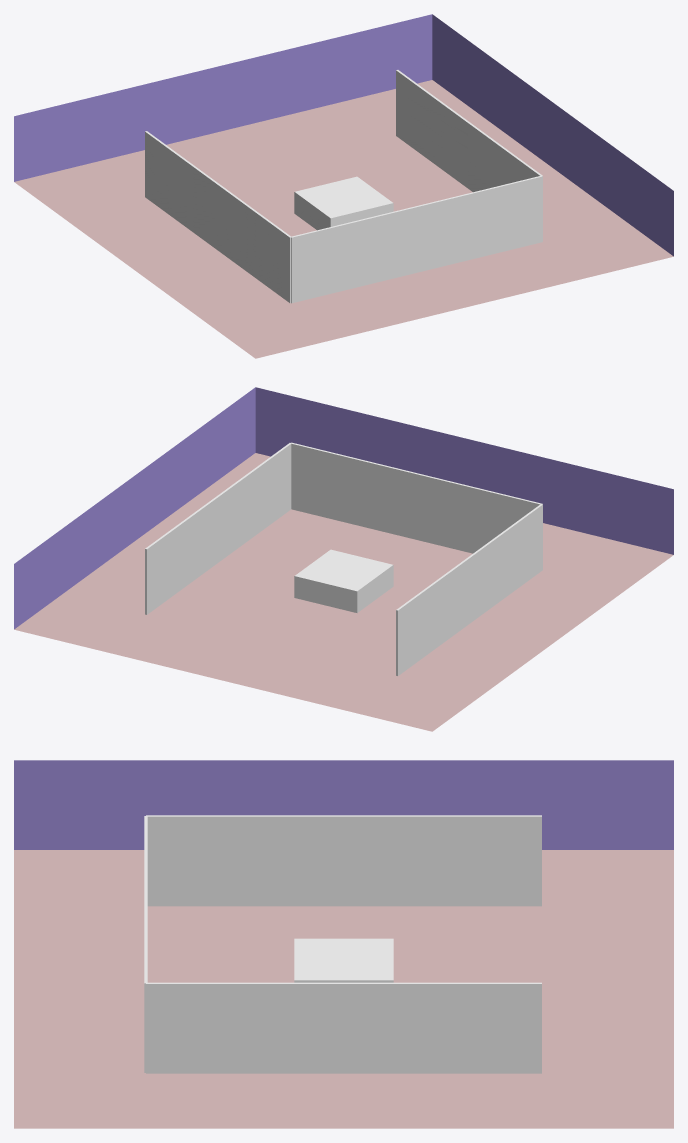
3 views of the same model, one above another, from view 1: azimuth 30°, elevation 25°; view 2: azimuth 150°, elevation 25°; view 3: azimuth 270°, elevation 25° (orthographic). The views are drawn at different scales.
Visible parts, largest first — view 1: Ground, FrontWall, EntryBoard, RightWall, LeftBoard, RightBox, Stage; view 2: Ground, EntryWall, RightWall, EntryBoard, LeftBoard, RightBox, Stage; view 3: Ground, LeftWall, RightBox, LeftBoard, Stage, EntryBoard.
Boxes of the visible parts, x1,y1,x2,y2 form: Ground: (14, 80, 673, 358); FrontWall: (14, 14, 432, 181); EntryBoard: (291, 176, 542, 303); RightWall: (432, 14, 673, 256); LeftBoard: (145, 131, 291, 302); RightBox: (396, 70, 542, 241); Stage: (294, 176, 393, 230); Ground: (14, 453, 673, 731); EntryWall: (255, 387, 673, 554); RightWall: (14, 387, 255, 629); EntryBoard: (291, 442, 542, 553); LeftBoard: (396, 504, 542, 675); RightBox: (145, 443, 291, 614); Stage: (294, 549, 393, 612); Ground: (14, 850, 673, 1128); LeftWall: (14, 760, 673, 849); RightBox: (146, 982, 541, 1073); LeftBoard: (146, 815, 541, 906); Stage: (294, 938, 393, 982); EntryBoard: (144, 816, 147, 1072).
Size of the model in its own units: 20 by 3 by 20.
